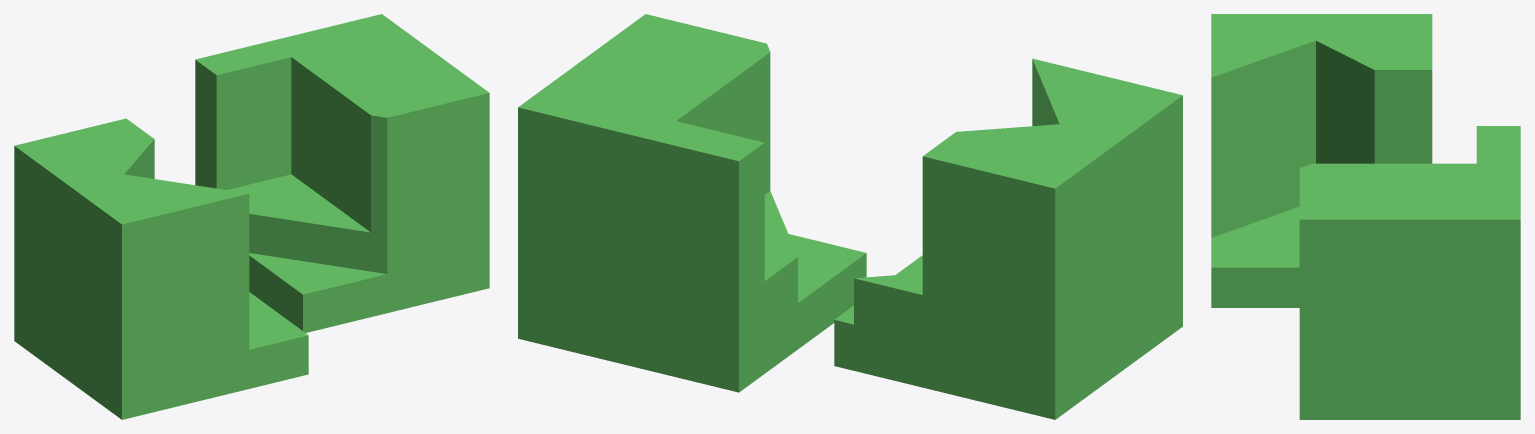
3 views of the same model, side by side, from view 1: azimuth 30°, elevation 25°; view 2: azimuth 150°, elevation 25°; view 3: azimuth 270°, elevation 25° (orthographic). The views are drawn at different scales.
Bounding box in the file's own units: 0.011 × 0.005 × 0.007.
